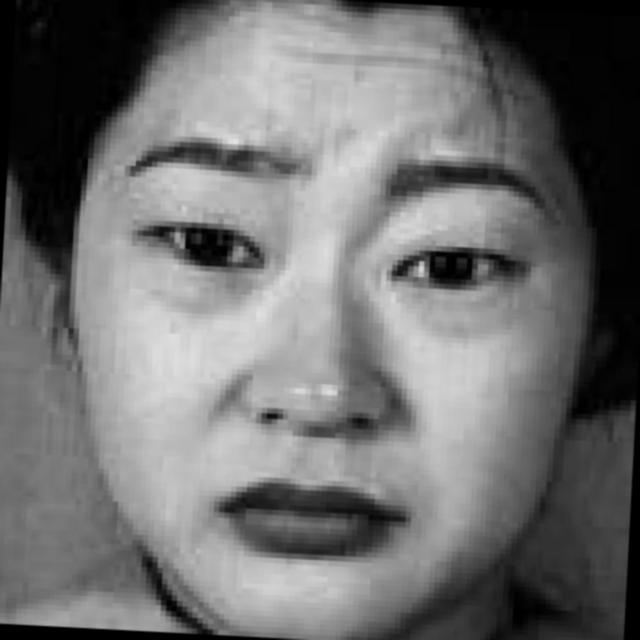fear: (76, 33, 604, 640)
